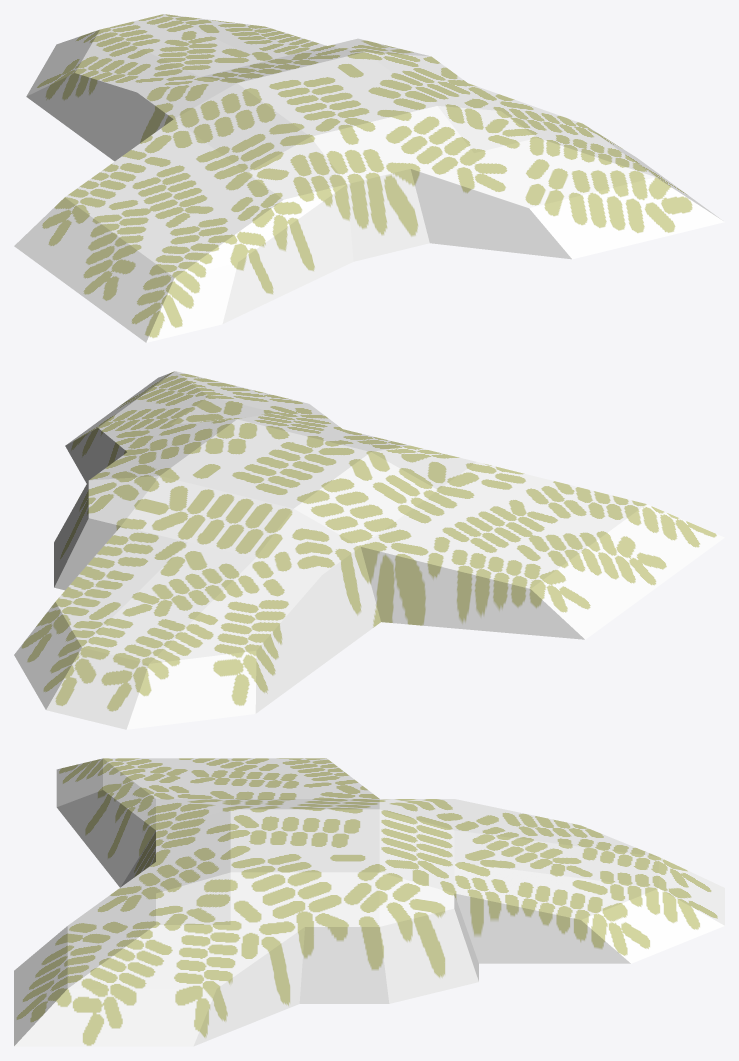
The model's file is SturtsDesertPea.glb.
3 renders of one model, top to bottom at view 1: azimuth 30°, elevation 25°; view 2: azimuth 150°, elevation 25°; view 3: azimuth 270°, elevation 25°, orthographic. The views are drawn at different scales.
Parts seen in each view (by area): view 1: Cube; view 2: Cube; view 3: Cube.
Part boxes in pixels (<box>): Cube: <box>14,14,724,342</box>; Cube: <box>14,371,724,729</box>; Cube: <box>14,758,724,1046</box>.
Bounding box in the file's own units: 2.92 × 0.4137 × 3.17.
1 material, 1 textured.
